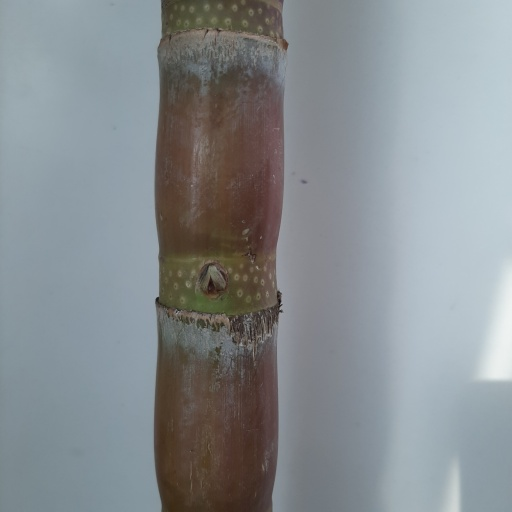Bud: (198, 263, 228, 297)
